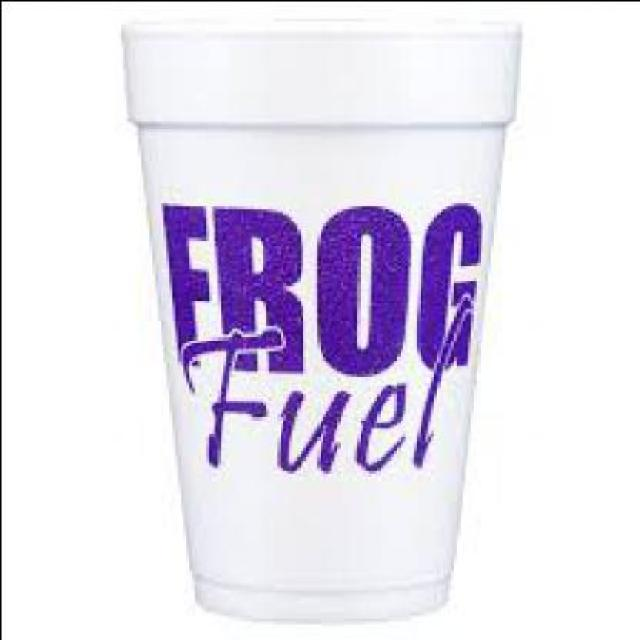PAPER: (117, 11, 512, 618)
